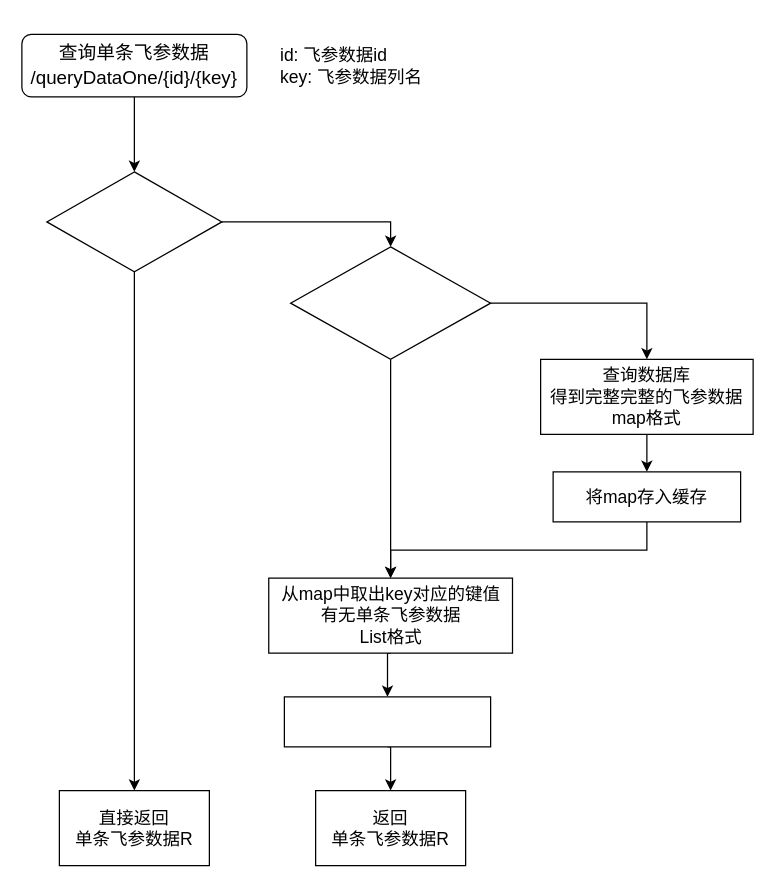
This 775x888 diagram has some shape labels left out. Here are the shapes that lost their labels. From the top down, the centre of each, then its label:
At (x=134, y=221): "查询缓存中 有无 单条飞参数据 R格式".
At (x=390, y=302): "查询缓存中 有无完整的飞参数据 map格式".
At (x=387, y=721): "将 单条飞参数据 存入缓存 R.success(List)格式".
